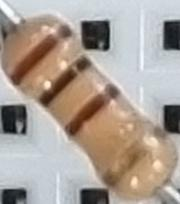Black: (36, 54, 97, 107)
Brown: (4, 20, 77, 86), (63, 82, 123, 136)
Side-Silver: (99, 123, 168, 190)
